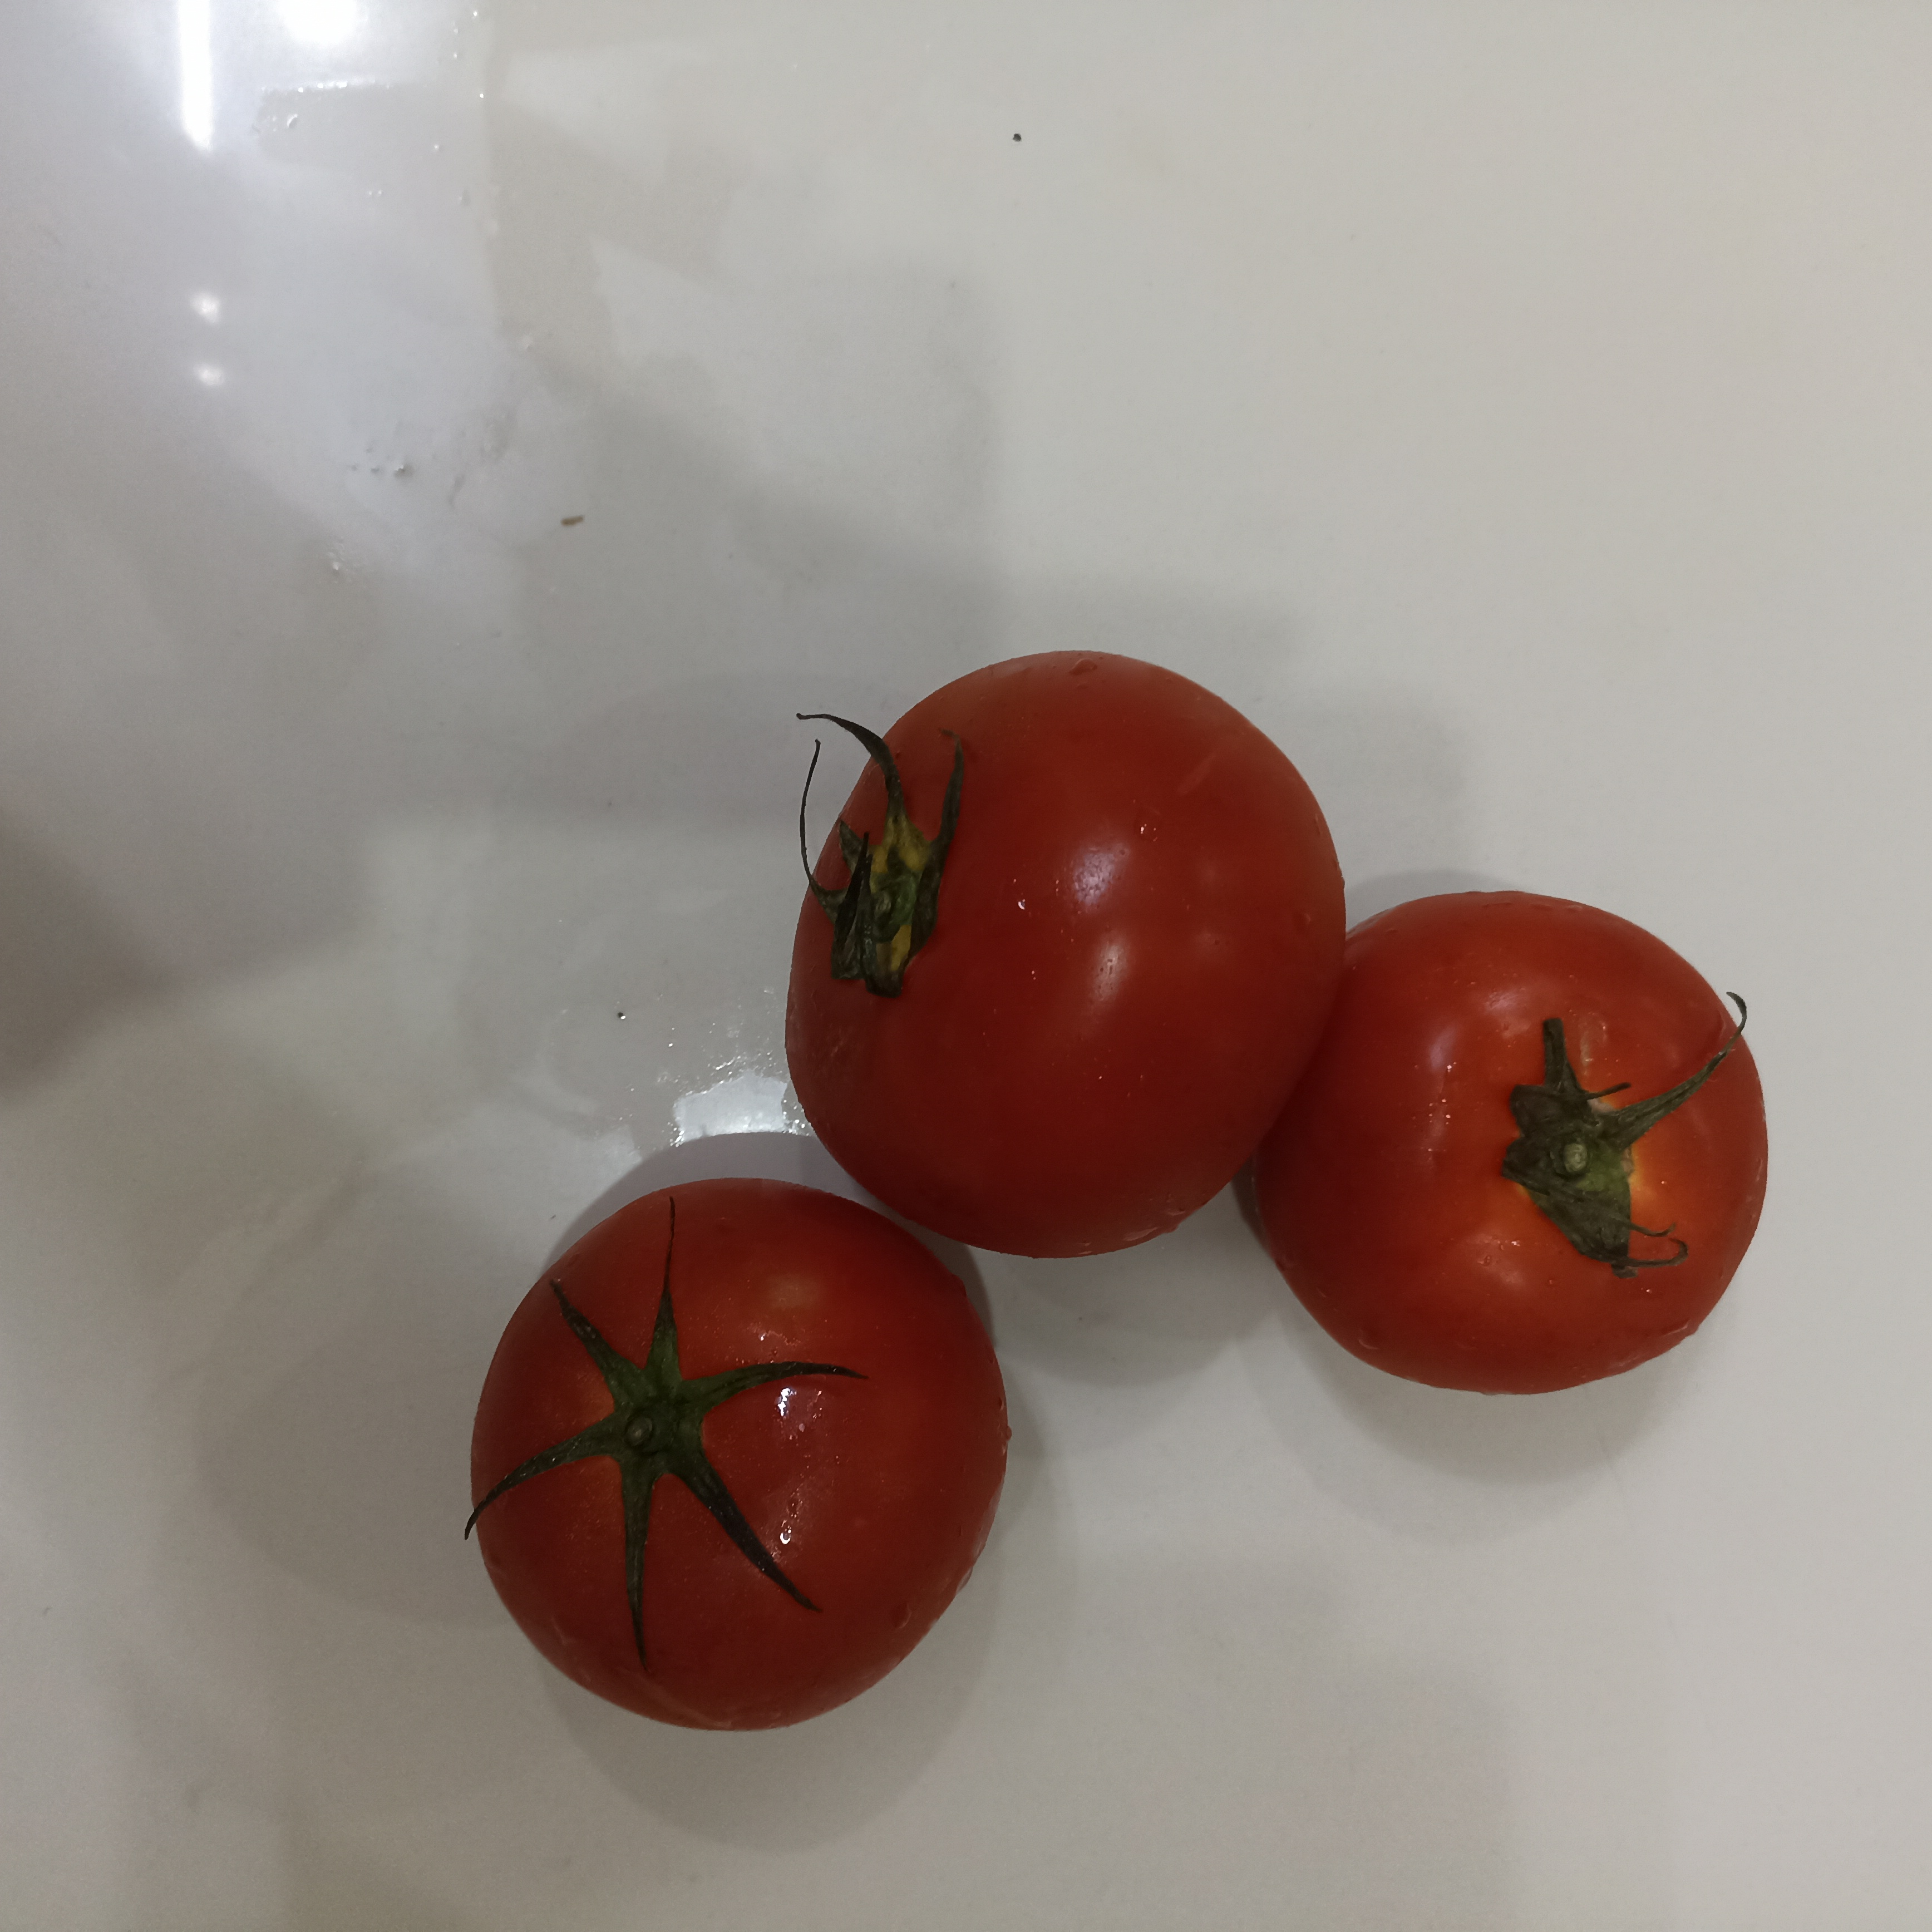Ca chua: (787, 640, 1348, 1258), (464, 1178, 1010, 1730), (1270, 886, 1769, 1394)
